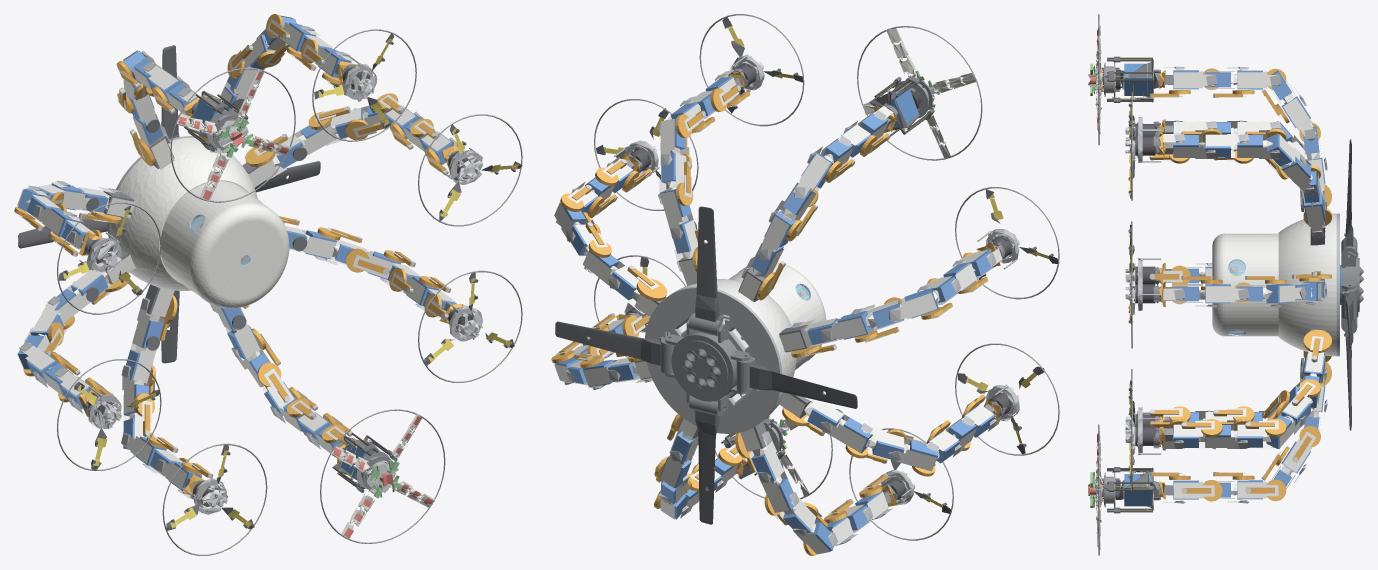
Rendered from cephalo2_mixed_flight.glb.
3 renders of one model, left to right at view 1: azimuth 30°, elevation 25°; view 2: azimuth 150°, elevation 25°; view 3: azimuth 270°, elevation 25°, orthographic. The views are drawn at different scales.
Visible parts, largest first — view 1: arms and hands|c0, turret shell|shell, arms and hands|c7, arms and hands|c3, arms and hands|c14, arms and hands|c4, arms and hands|c6, belly rotor|blades, arms and hands|c27, arms and hands|c11, arms and hands|c13, arms and hands|c12 (+12 smaller); view 2: arms and hands|c0, arms and hands|c7, belly rotor|blades, body|plate, arms and hands|c3, arms and hands|c6, belly rotor|hub, turret shell|shell, arms and hands|c4, arms and hands|c14, arms and hands|c27, belly rotor|barrels (+7 smaller); view 3: arms and hands|c0, turret shell|shell, arms and hands|c7, arms and hands|c3, arms and hands|c4, arms and hands|c6, arms and hands|c10, arms and hands|c18, belly rotor|blades, arms and hands|c17, arms and hands|c14, arms and hands|c16 (+13 smaller).
Part boxes in pixels (bbox=[...]): arms and hands|c0: bbox=[17, 15, 458, 498]; turret shell|shell: bbox=[109, 137, 289, 308]; arms and hands|c7: bbox=[17, 16, 456, 490]; arms and hands|c3: bbox=[14, 14, 441, 474]; arms and hands|c14: bbox=[57, 29, 522, 555]; arms and hands|c4: bbox=[22, 22, 450, 478]; arms and hands|c6: bbox=[19, 25, 482, 514]; belly rotor|blades: bbox=[18, 45, 320, 363]; arms and hands|c27: bbox=[176, 70, 435, 539]; arms and hands|c11: bbox=[95, 70, 483, 513]; arms and hands|c13: bbox=[63, 38, 518, 528]; arms and hands|c12: bbox=[59, 33, 522, 530]; arms and hands|c0: bbox=[554, 70, 1002, 554]; arms and hands|c7: bbox=[555, 76, 994, 550]; belly rotor|blades: bbox=[555, 206, 857, 524]; body|plate: bbox=[645, 286, 781, 433]; arms and hands|c3: bbox=[551, 88, 979, 555]; arms and hands|c6: bbox=[555, 54, 1019, 546]; belly rotor|hub: bbox=[665, 317, 749, 412]; turret shell|shell: bbox=[672, 262, 826, 419]; arms and hands|c4: bbox=[559, 85, 988, 527]; arms and hands|c14: bbox=[594, 14, 1059, 540]; arms and hands|c27: bbox=[780, 28, 977, 496]; belly rotor|barrels: bbox=[659, 313, 756, 416]; arms and hands|c0: bbox=[1163, 67, 1326, 502]; turret shell|shell: bbox=[1212, 213, 1336, 356]; arms and hands|c7: bbox=[1173, 70, 1325, 499]; arms and hands|c3: bbox=[1169, 68, 1331, 501]; arms and hands|c4: bbox=[1150, 90, 1320, 493]; arms and hands|c6: bbox=[1137, 66, 1327, 503]; arms and hands|c10: bbox=[1135, 123, 1155, 446]; arms and hands|c18: bbox=[1101, 56, 1153, 513]; belly rotor|blades: bbox=[1345, 139, 1353, 430]; arms and hands|c17: bbox=[1124, 63, 1152, 506]; arms and hands|c14: bbox=[1098, 14, 1132, 555]; arms and hands|c16: bbox=[1107, 57, 1152, 512].
Bounding box in the file's own units: 0.8581 × 0.8962 × 0.4821.
